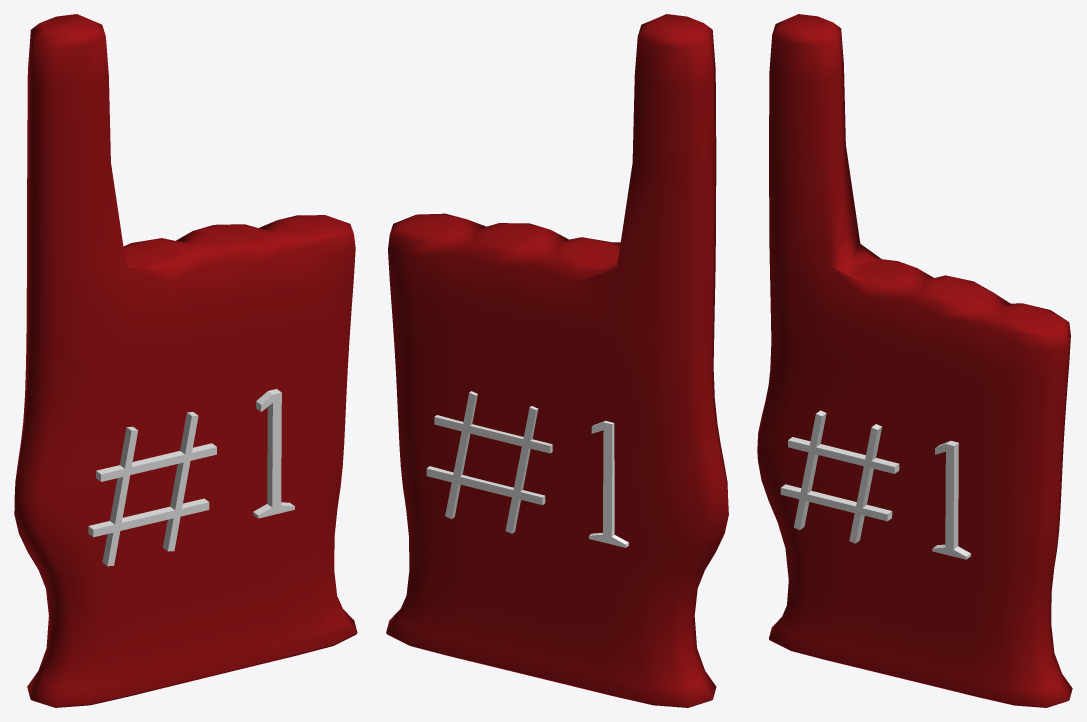
Rendered from hatNumberOne.fbx.
3 renders of one model, left to right at view 1: azimuth 30°, elevation 25°; view 2: azimuth 150°, elevation 25°; view 3: azimuth 330°, elevation 25°, orthographic. The views are drawn at different scales.
Visible parts, largest first — view 1: Cube, Cube.008, Cube.012, Cube.011, Cube.010, Cube.009; view 2: Cube, Cube.007, Cube.006, Cube.003, Cube.005, Cube.004; view 3: Cube, Cube.008, Cube.012, Cube.010, Cube.009, Cube.011.
Boxes of the visible parts, <box> form: Cube: <box>14,14,357,707</box>; Cube.008: <box>253,389,294,518</box>; Cube.012: <box>162,412,198,551</box>; Cube.011: <box>102,426,138,566</box>; Cube.010: <box>88,498,209,537</box>; Cube.009: <box>96,443,216,481</box>; Cube: <box>386,14,728,707</box>; Cube.007: <box>589,421,628,547</box>; Cube.006: <box>426,466,545,504</box>; Cube.003: <box>445,391,477,519</box>; Cube.005: <box>434,415,552,453</box>; Cube.004: <box>505,406,538,533</box>; Cube: <box>757,14,1072,707</box>; Cube.008: <box>932,440,970,559</box>; Cube.012: <box>849,424,881,543</box>; Cube.010: <box>780,484,892,521</box>; Cube.009: <box>788,437,899,473</box>; Cube.011: <box>793,410,826,530</box>.
Size of the model in its own units: 174 by 327 by 42.73.
